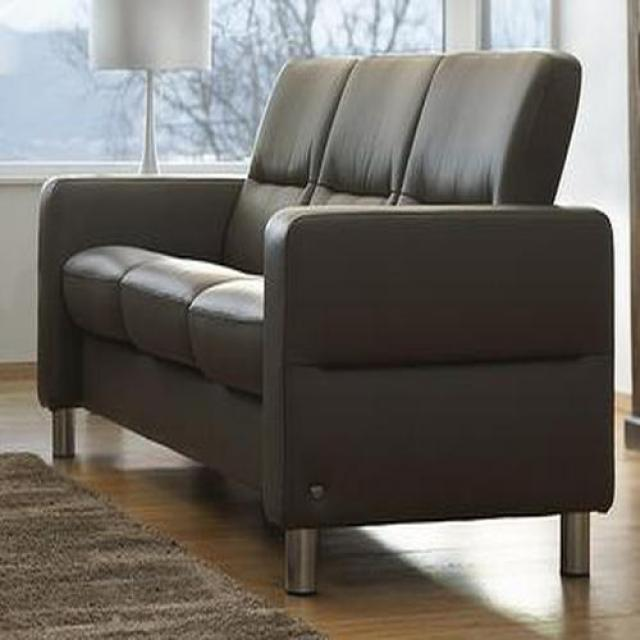sofa: (37, 50, 617, 598)
